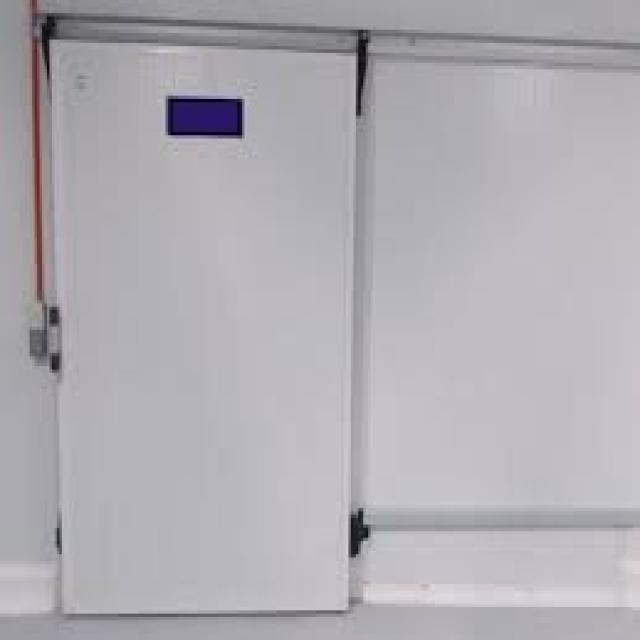door: (48, 36, 357, 617)
